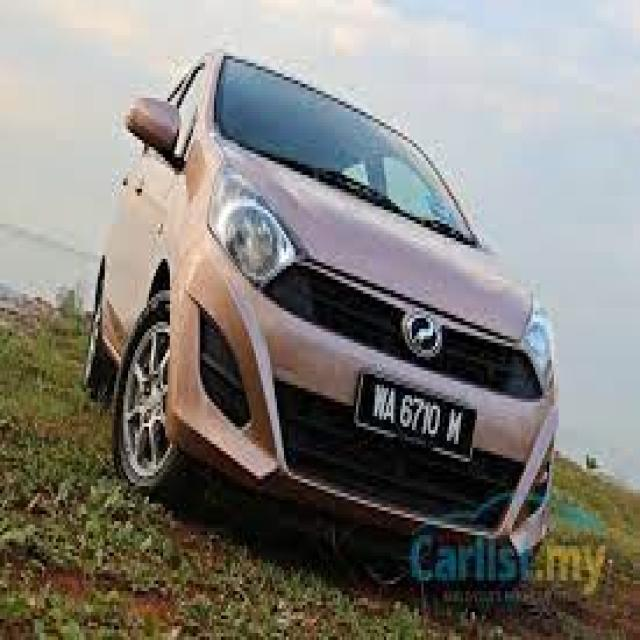PeroduaAxia: (81, 42, 561, 591)
